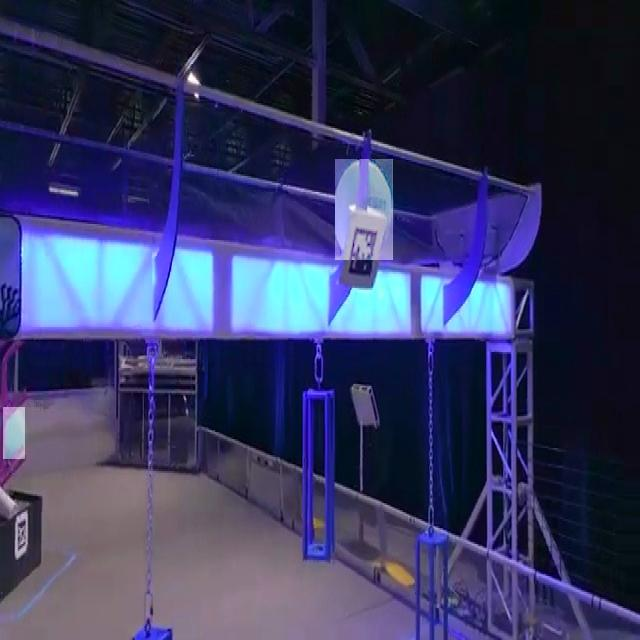Algae: (336, 159, 394, 260), (3, 407, 25, 459)
